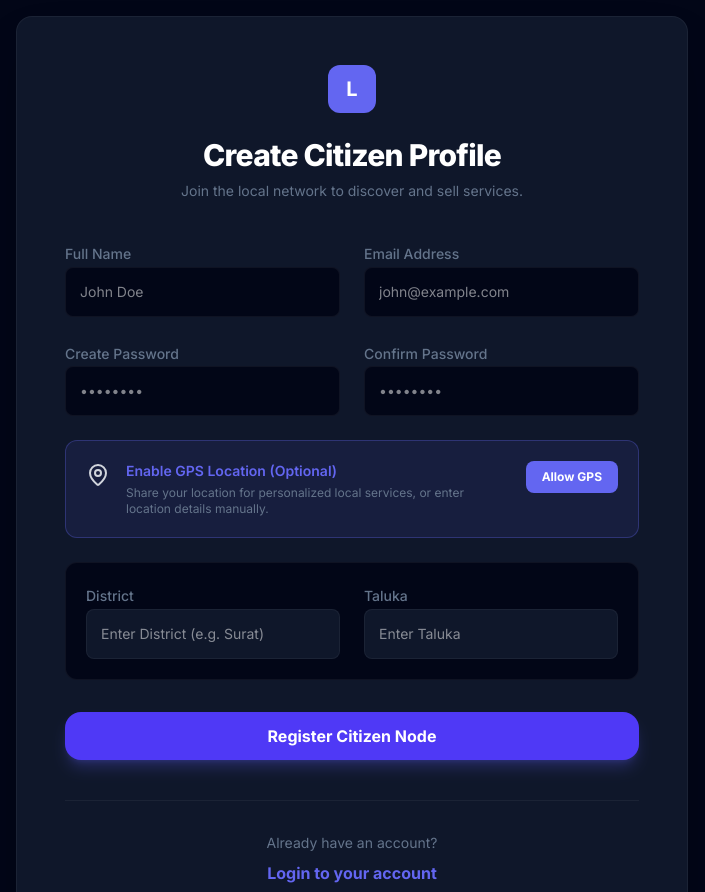
Scenario: Register Page › handles GPS denial gracefully
Click the button "Allow GPS". click: point(572, 477)
box: [526, 461, 618, 493]
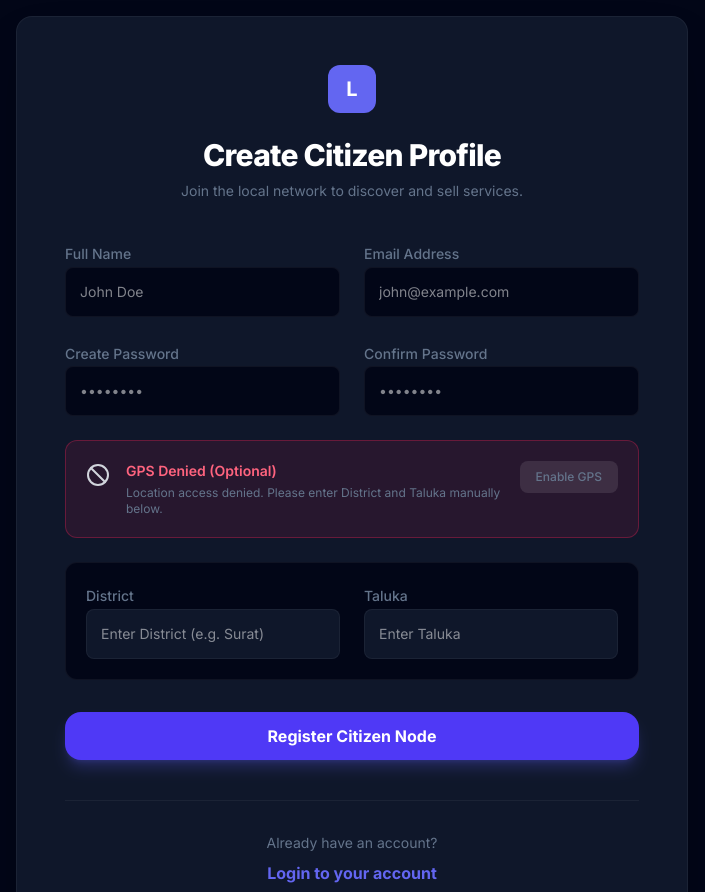
Now the text "GPS Denied (Optional)" is shown, box [126, 462, 277, 479]
